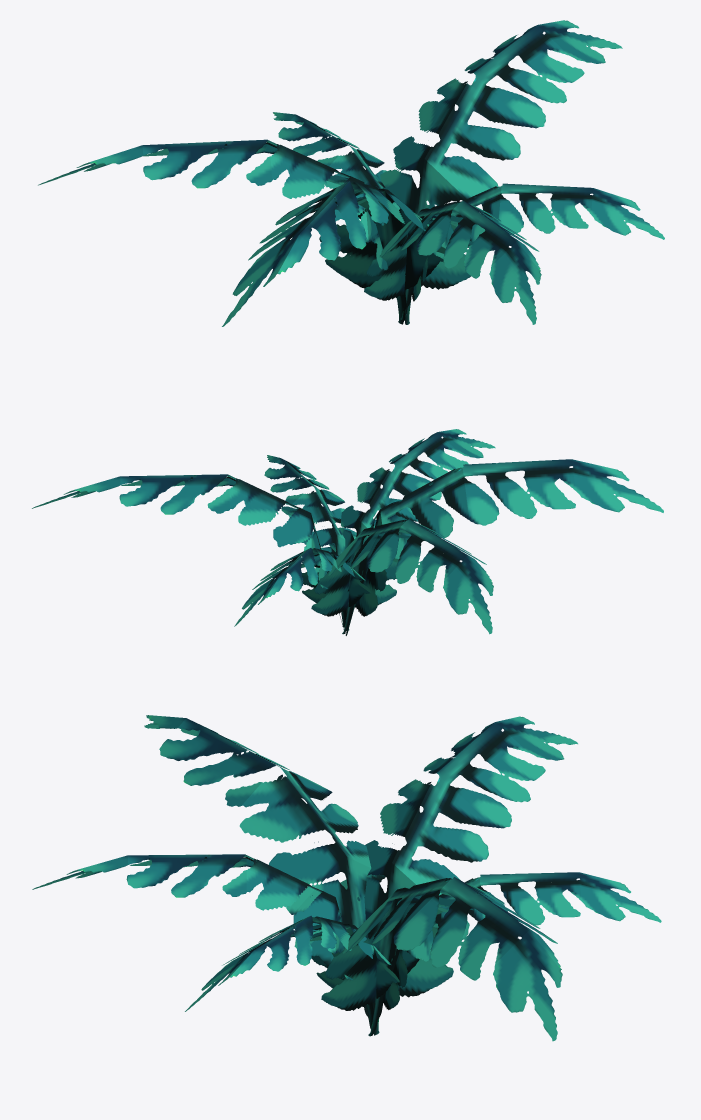
Rendered from fern  small.fbx.
3 renders of one model, top to bottom at view 1: azimuth 30°, elevation 25°; view 2: azimuth 150°, elevation 25°; view 3: azimuth 270°, elevation 25°, orthographic. The views are drawn at different scales.
Parts seen in each view (by area): view 1: Plane.008; view 2: Plane.008; view 3: Plane.008.
Part boxes in pixels (left/top/right/bottom): Plane.008: left=38, top=20, right=664, bottom=326; Plane.008: left=32, top=429, right=663, bottom=635; Plane.008: left=32, top=715, right=661, bottom=1041.
Bounding box in the file's own units: 92.38 × 26.29 × 73.51.
